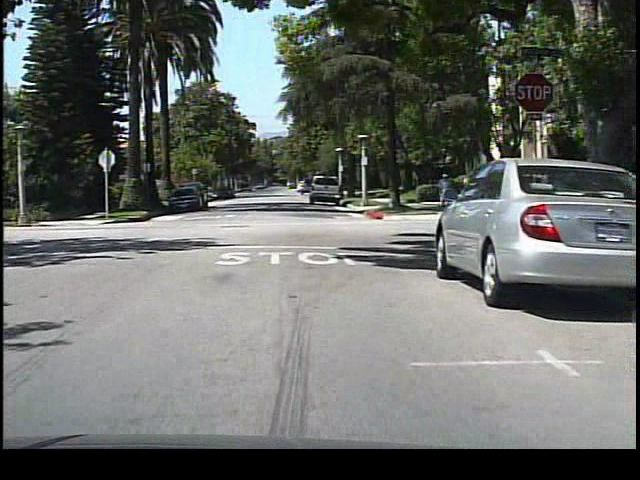person: (432, 166, 455, 214)
